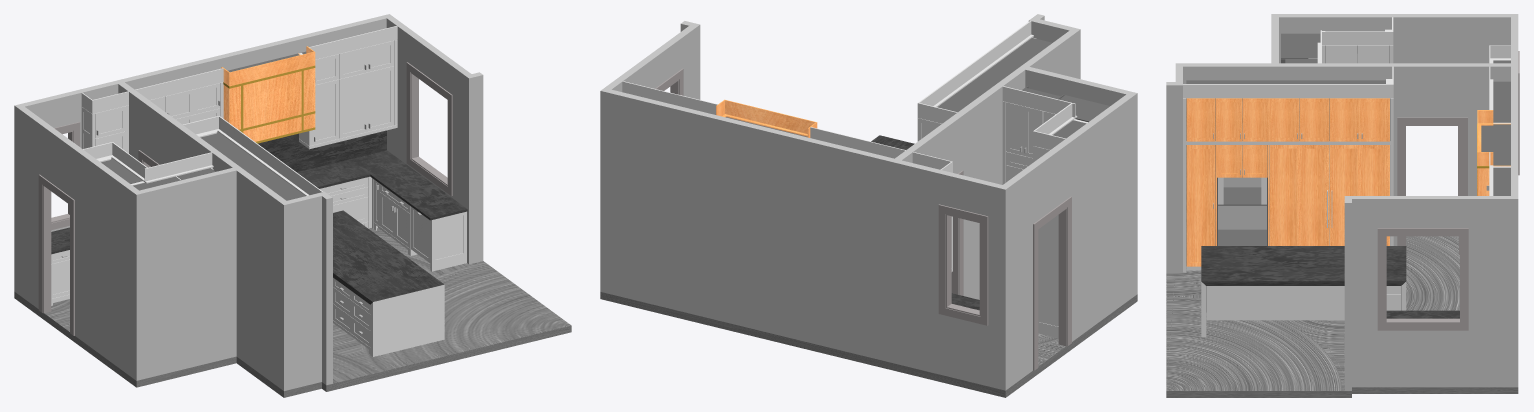
3 renders of one model, left to right at view 1: azimuth 30°, elevation 25°; view 2: azimuth 150°, elevation 25°; view 3: azimuth 270°, elevation 25°, orthographic. The views are drawn at different scales.
Parts seen in each view (by area): view 1: Layer:wall, Layer:doors, Layer:wall.001, Layer:countertop, Layer:fillers-columns, Layer:buildup, Layer:moulding, Layer:cabinets.001, Layer:cabinets, Layer:countertop.001, Layer:buildup.001; view 2: Layer:wall, Layer:moulding, Layer:buildup, Layer:wall.001, Layer:fillers-columns, Layer:cabinets, Layer:doors, Layer:buildup.001, Layer:countertop; view 3: Layer:wall, Layer:doors.001, Layer:wall.001, Layer:countertop, Layer:fillers-columns, Layer:cabinets, Layer:moulding, Layer:buildup, Layer:doors, Layer:lv, Layer:buildup.001, Layer:cabinets.001.
Part boxes in pixels (bbox=[...]): Layer:wall: bbox=[14, 14, 483, 390]; Layer:doors: bbox=[51, 40, 430, 346]; Layer:wall.001: bbox=[14, 228, 571, 397]; Layer:countertop: bbox=[51, 150, 467, 304]; Layer:fillers-columns: bbox=[81, 40, 466, 356]; Layer:buildup: bbox=[81, 26, 397, 195]; Layer:moulding: bbox=[38, 62, 452, 335]; Layer:cabinets.001: bbox=[223, 53, 315, 141]; Layer:cabinets: bbox=[101, 51, 306, 200]; Layer:countertop.001: bbox=[258, 130, 386, 172]; Layer:buildup.001: bbox=[221, 46, 315, 86]; Layer:wall: bbox=[600, 14, 1137, 390]; Layer:moulding: bbox=[655, 68, 1071, 370]; Layer:buildup: bbox=[622, 21, 1077, 172]; Layer:wall.001: bbox=[600, 292, 1137, 397]; Layer:fillers-columns: bbox=[917, 37, 1087, 338]; Layer:cabinets: bbox=[726, 38, 1109, 138]; Layer:doors: bbox=[1006, 102, 1055, 182]; Layer:buildup.001: bbox=[716, 99, 817, 137]; Layer:countertop: bbox=[871, 135, 979, 310]; Layer:wall: bbox=[1166, 14, 1518, 390]; Layer:doors.001: bbox=[1186, 98, 1389, 266]; Layer:wall.001: bbox=[1166, 236, 1518, 397]; Layer:countertop: bbox=[1201, 246, 1459, 318]; Layer:fillers-columns: bbox=[1183, 31, 1510, 336]; Layer:cabinets: bbox=[1186, 31, 1510, 311]; Layer:moulding: bbox=[1377, 51, 1519, 330]; Layer:buildup: bbox=[1183, 17, 1510, 195]; Layer:doors: bbox=[1325, 45, 1400, 310]; Layer:lv: bbox=[1186, 141, 1390, 144]; Layer:buildup.001: bbox=[1477, 110, 1493, 165]; Layer:cabinets.001: bbox=[1477, 123, 1510, 195].
Bounding box in the file's own units: 6.78 × 3.25 × 5.34.
9 materials, 2 textured.
